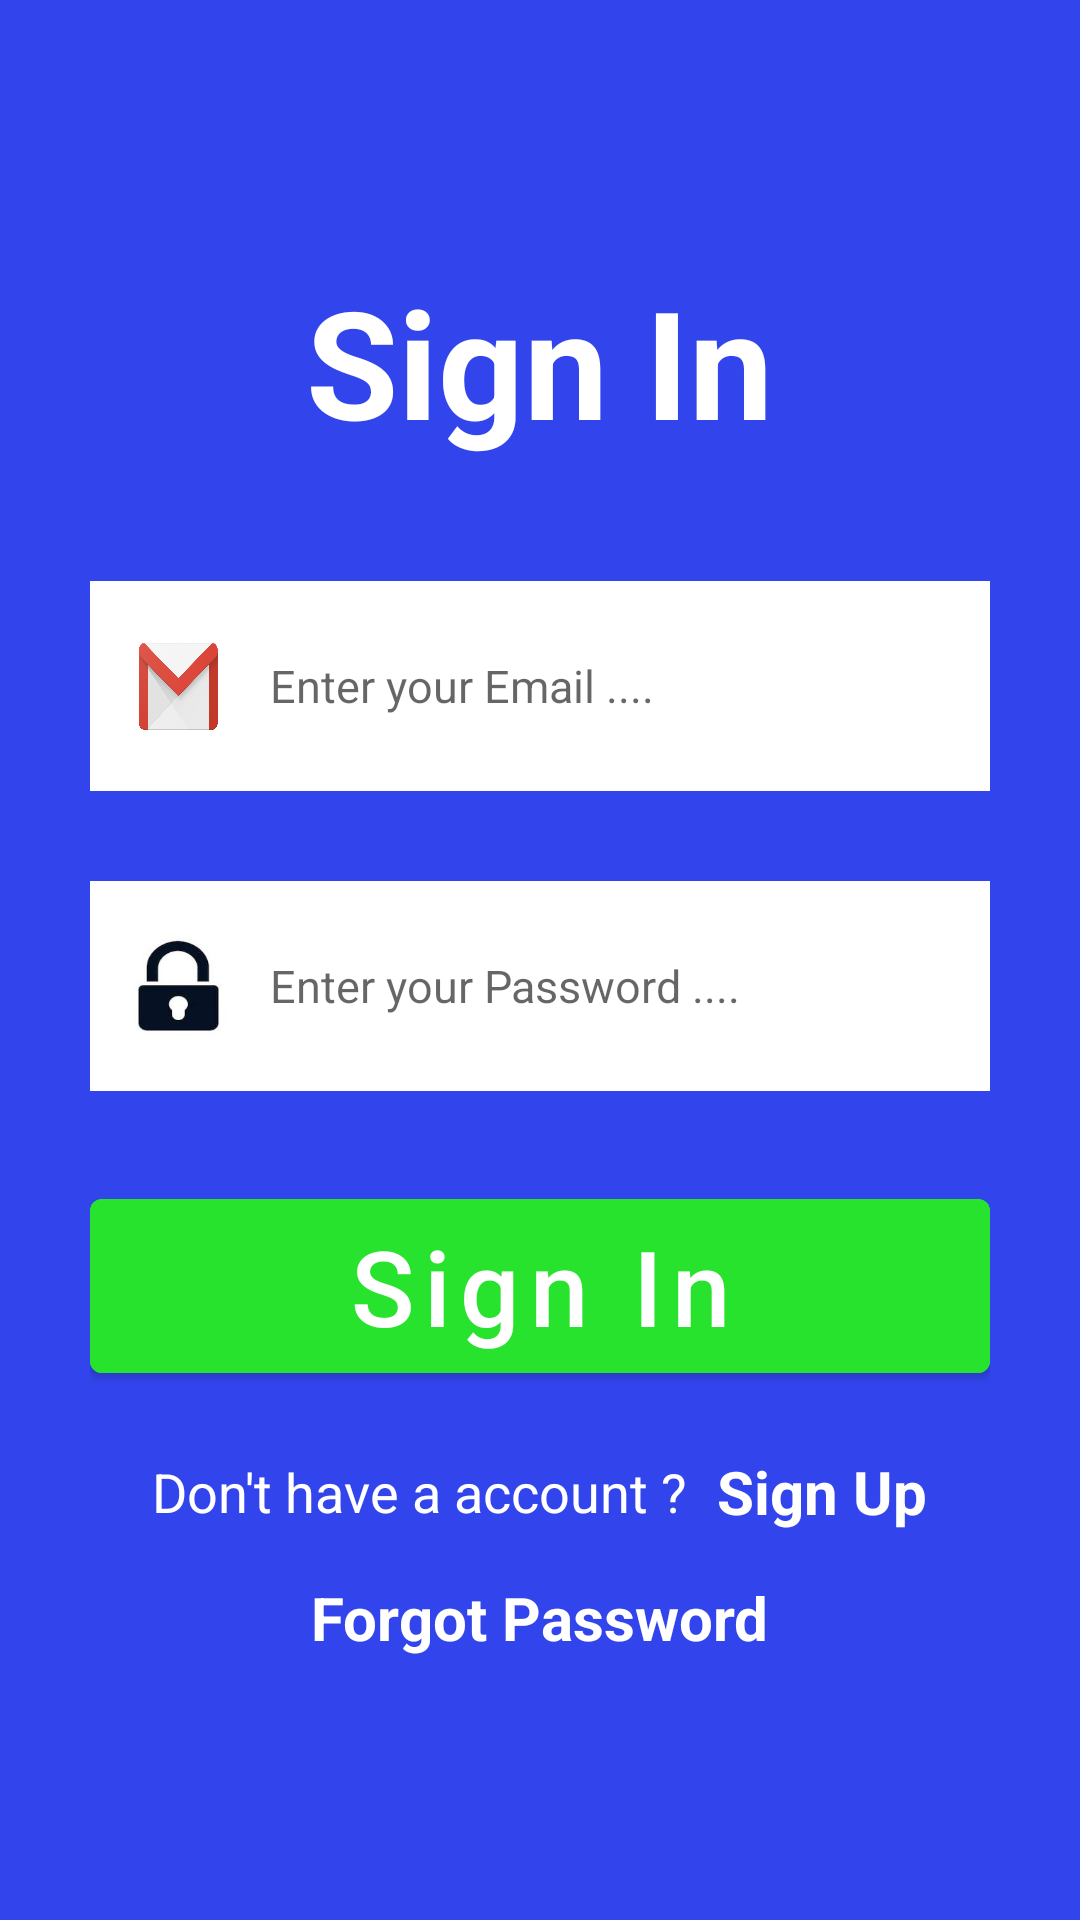

Icons on this 1080 × 1920 Android screen, each with its box as (x1, y1, x2, y2):
lock: (138, 941, 219, 1031)
